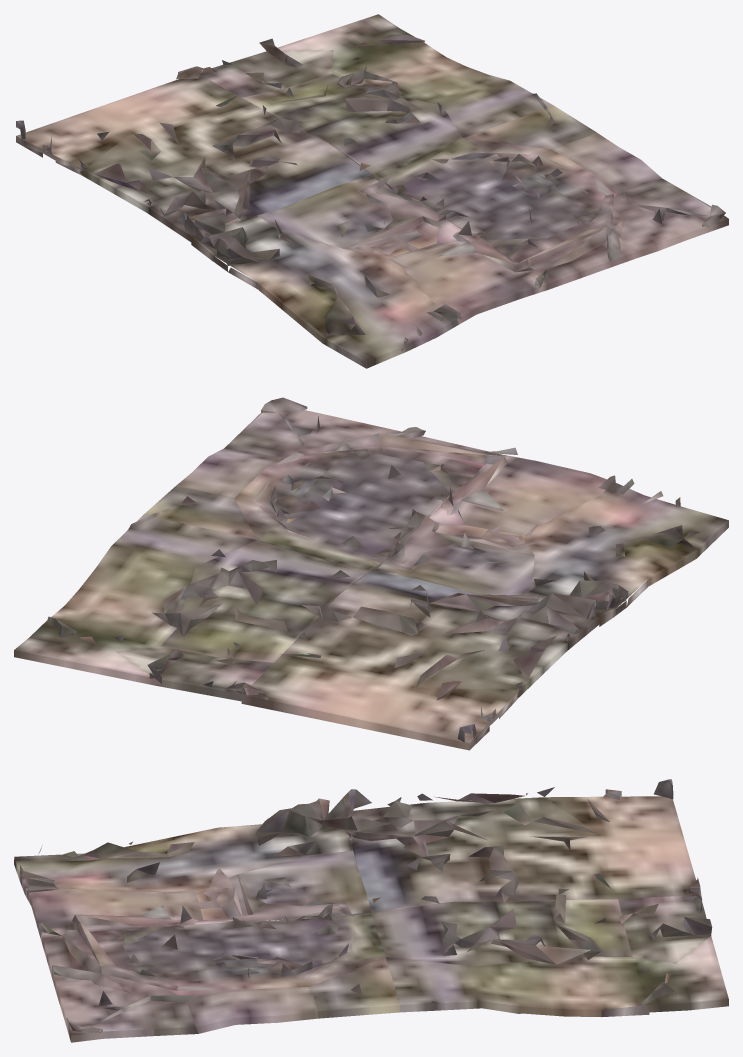
3 views of the same model, one above another, from view 1: azimuth 30°, elevation 25°; view 2: azimuth 150°, elevation 25°; view 3: azimuth 270°, elevation 25° (orthographic). The views are drawn at different scales.
Visible parts, largest first — view 1: Mesh_0; view 2: Mesh_0; view 3: Mesh_0.
Boxes of the visible parts, x1,y1,x2,y2 form: Mesh_0: (16,14,728,368); Mesh_0: (14,397,728,750); Mesh_0: (14,779,728,1042).
Size of the model in its own units: 535 by 67.07 by 659.
1 material, 1 textured.
